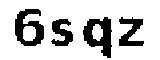6: (11, 2, 47, 51)
q: (80, 15, 116, 60)
s: (48, 15, 77, 51)
z: (116, 15, 153, 52)
